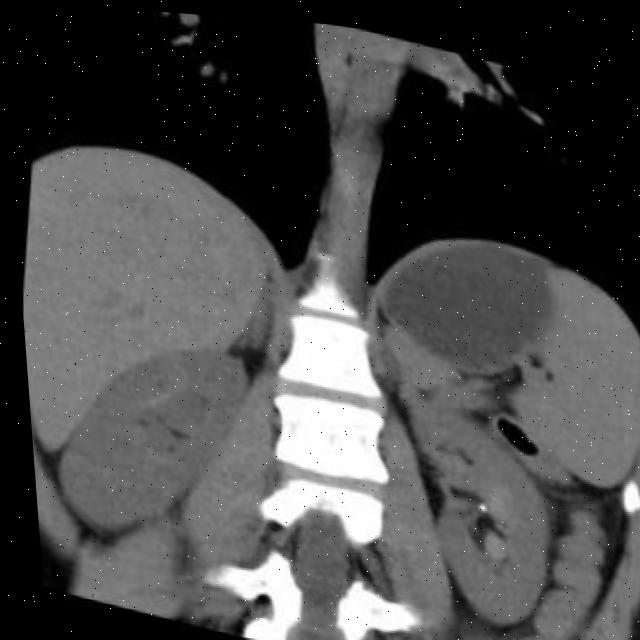Tas_Var: (466, 492, 481, 508)
